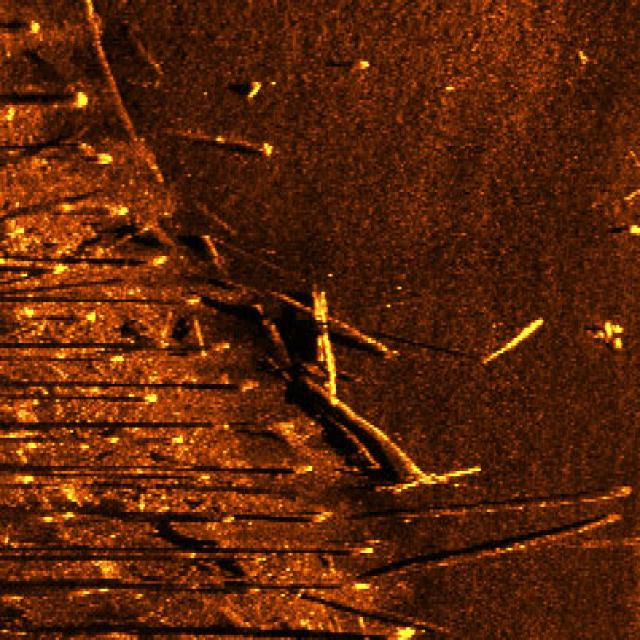other: (292, 279, 482, 494)
